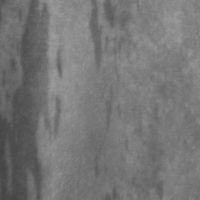inclusion: (1, 1, 64, 199), (115, 104, 167, 199), (88, 1, 133, 75), (100, 83, 119, 133), (90, 142, 107, 181)
